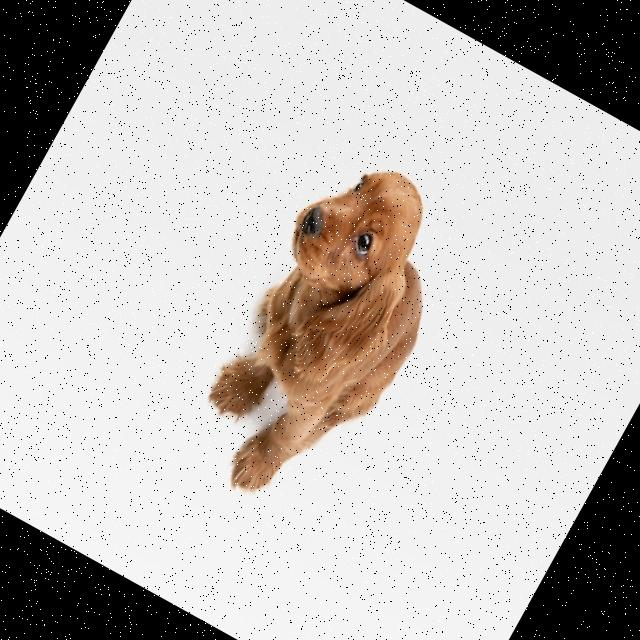Dog: (169, 140, 485, 529)
